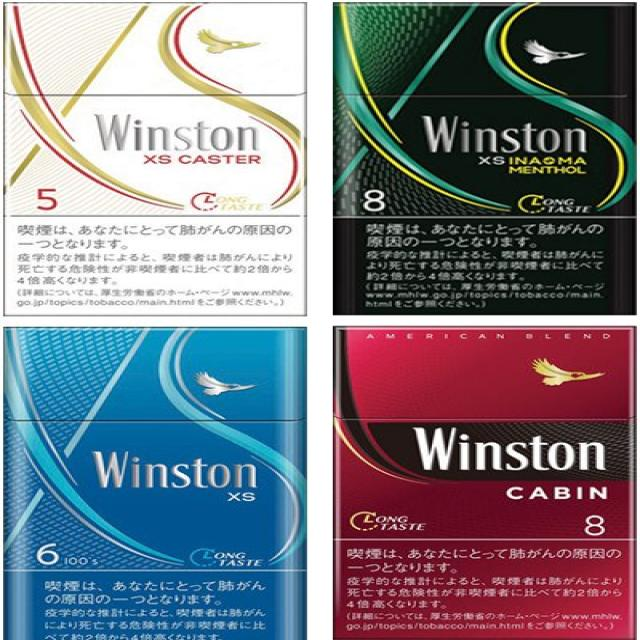winston: (324, 325, 640, 640), (0, 326, 313, 640), (336, 0, 640, 318), (18, 3, 308, 320)
